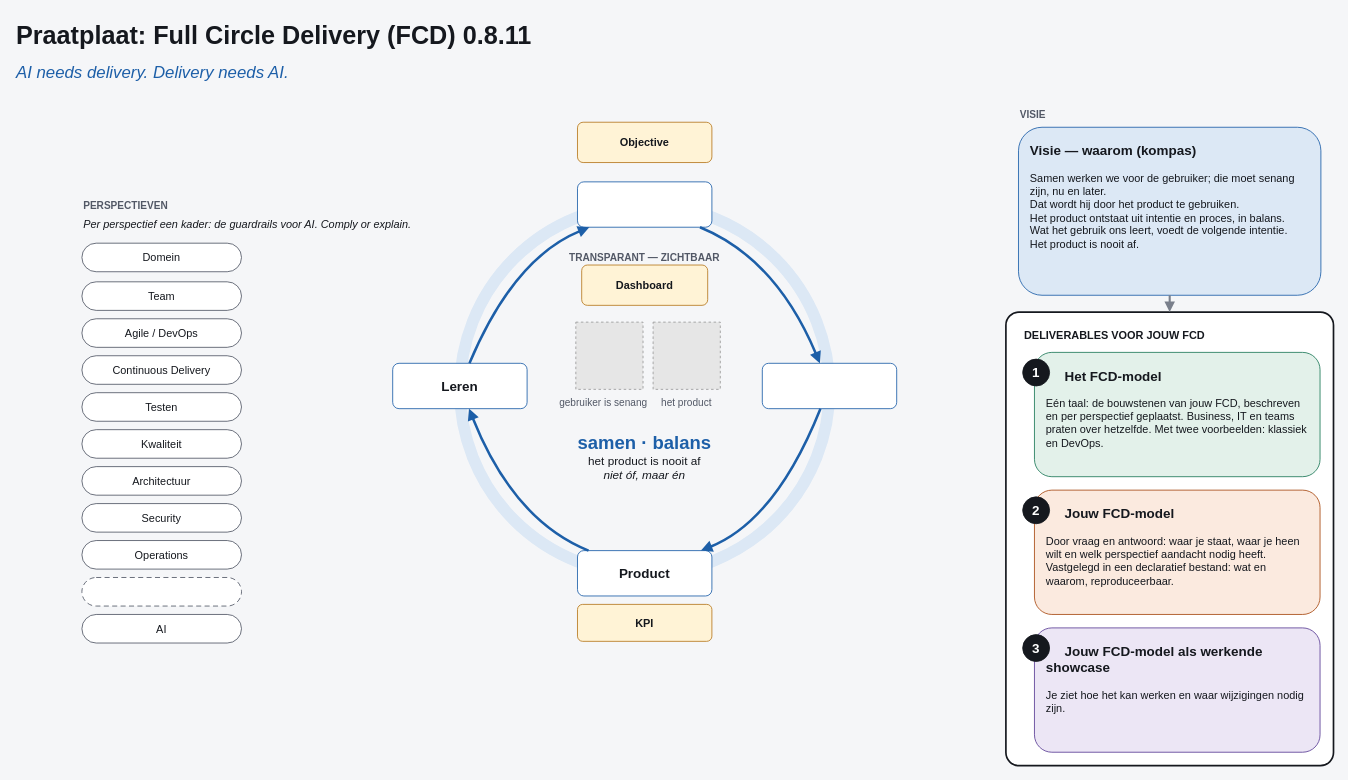
Some shapes in this 1348 by 780 pixel diagram are drawn without their labels. Grey dashed boxes stand in for pictures. Here are the shapes that lost their labels. From the top down, the centre of each, then its label:
At pixel 644 204: "Intentie".
At pixel 829 385: "Proces".
